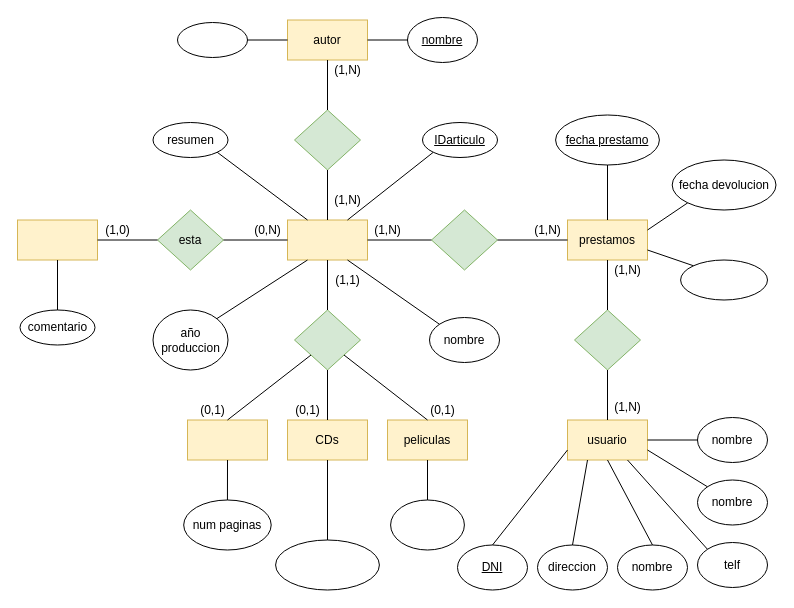
The diagram is 794 pixels wide and 608 high, and some of its shapes have lost their labels. The shapes that lost their labels are listed below. From the top down, each one's box as (x1, y1, x2, y2) in pixels, then its label:
(176, 22, 248, 58): pais
(294, 109, 360, 170): tiene
(16, 219, 98, 260): deterioro
(286, 219, 368, 260): articulo
(430, 209, 498, 270): presta
(680, 259, 768, 300): fecha max
(294, 309, 360, 370): es
(574, 309, 640, 370): realiza
(186, 419, 268, 460): libros
(390, 499, 464, 550): duracion
(275, 539, 379, 590): num canciones
